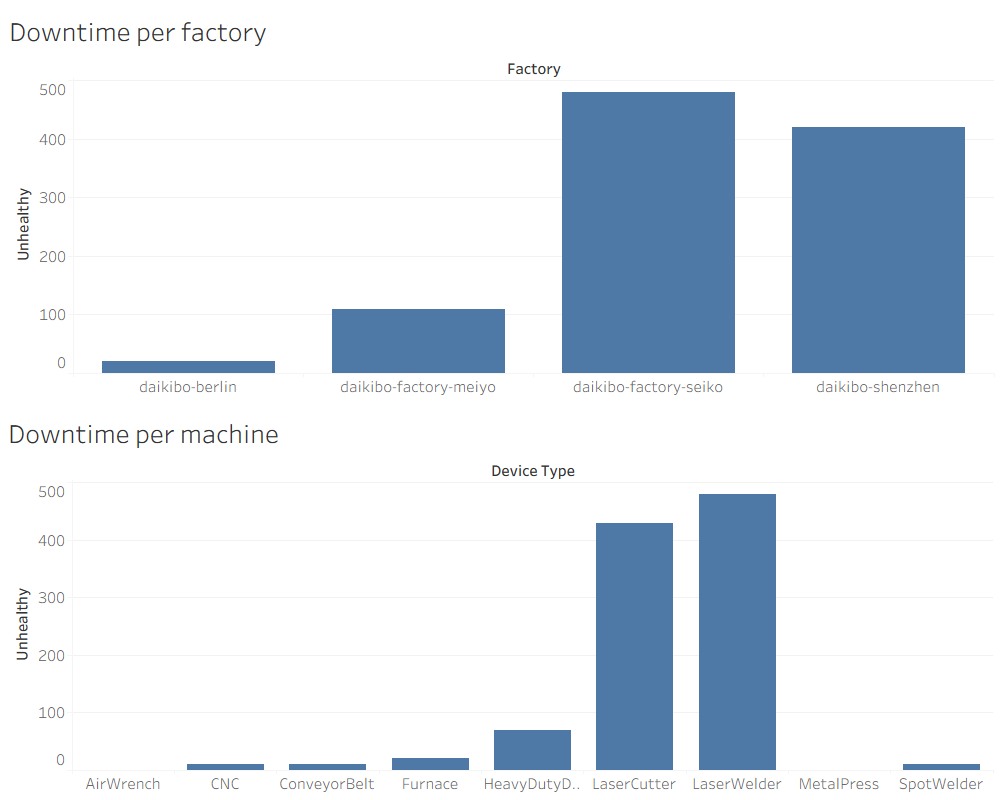

Layout of this report page (visuals, bound fields, positions):
{"tool":"tableau","page":{"name":"Dashboard 1","canvas":[1000,800],"ordinal":0},"visuals":[{"type":"worksheet","title":"Downtime per factory","mark":"Automatic","rows":["Calculation_0717449239474176"],"cols":["factory"],"box":[1,4,997,398]},{"type":"worksheet","title":"Downtime per machine","mark":"Automatic","rows":["Calculation_0717449239474176"],"cols":["deviceType"],"box":[0,406,997,393]}]}

Visuals, with their boxes in screenshot pixels (x1, y1, x2, y2), scaled from the page's 1000x800 canvas onto the 1000x800 screenshot:
"Downtime per factory" worksheet: crop(1, 4, 998, 402)
"Downtime per machine" worksheet: crop(0, 406, 997, 799)
